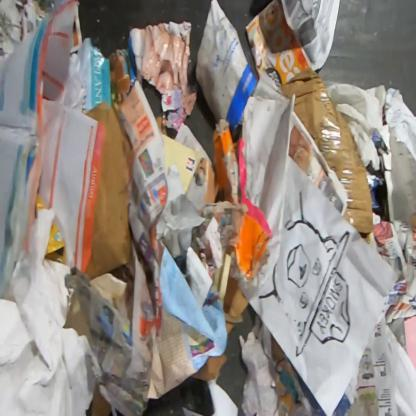cardboard: (278, 68, 373, 235), (201, 117, 274, 283), (83, 99, 134, 280), (375, 124, 415, 230), (62, 288, 92, 348), (223, 274, 250, 338), (121, 27, 142, 89), (190, 353, 229, 384), (107, 47, 131, 96), (45, 219, 67, 266), (88, 381, 112, 415), (271, 333, 286, 366), (156, 115, 168, 137), (35, 191, 48, 209)
